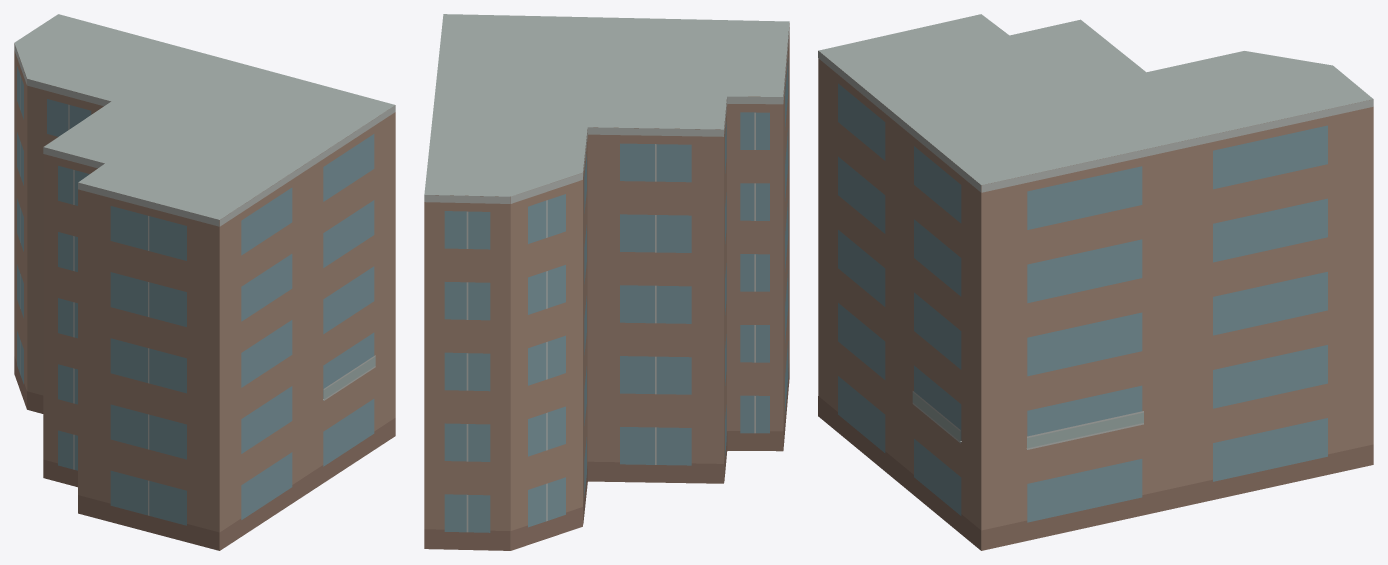
File: survey-upis-32832891.glb
3 renders of one model, left to right at view 1: azimuth 30°, elevation 25°; view 2: azimuth 150°, elevation 25°; view 3: azimuth 270°, elevation 25°, orthographic. The views are drawn at different scales.
Visible parts, largest first — view 1: survey-upis-32832891.tmp; view 2: survey-upis-32832891.tmp; view 3: survey-upis-32832891.tmp.
Boxes of the visible parts, x1,y1,x2,y2 form: survey-upis-32832891.tmp: (14, 14, 395, 550); survey-upis-32832891.tmp: (424, 14, 789, 550); survey-upis-32832891.tmp: (818, 14, 1373, 550).
Bounding box in the file's own units: 11.84 × 11.78 × 16.23.
